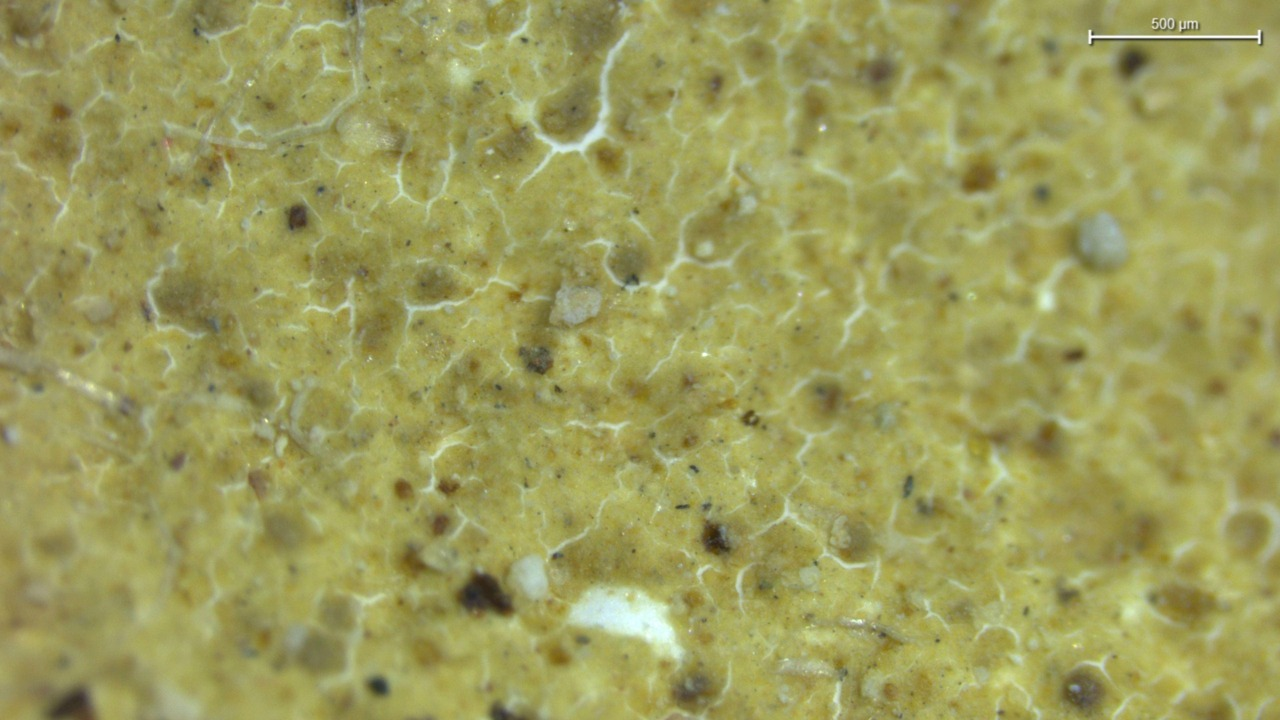microplastic_fragment: (549, 286, 602, 327)
